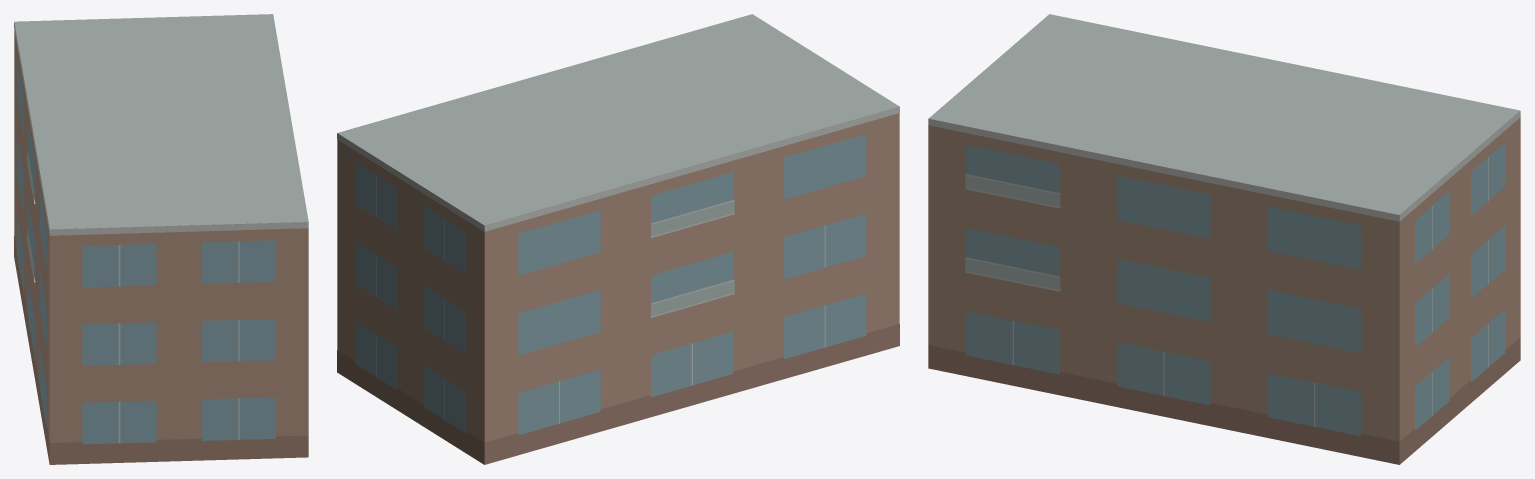
The model's file is survey-upis-32697212.glb.
3 views of the same model, side by side, from view 1: azimuth 30°, elevation 25°; view 2: azimuth 150°, elevation 25°; view 3: azimuth 270°, elevation 25° (orthographic). The views are drawn at different scales.
Parts seen in each view (by area): view 1: survey-upis-32697212.tmp; view 2: survey-upis-32697212.tmp; view 3: survey-upis-32697212.tmp.
Boxes of the visible parts, box(x1,y1,x2,y2) form: survey-upis-32697212.tmp: box(14, 14, 308, 464); survey-upis-32697212.tmp: box(337, 14, 899, 464); survey-upis-32697212.tmp: box(928, 14, 1520, 464).
Bounding box in the file's own units: 15.81 × 9.15 × 19.67.
